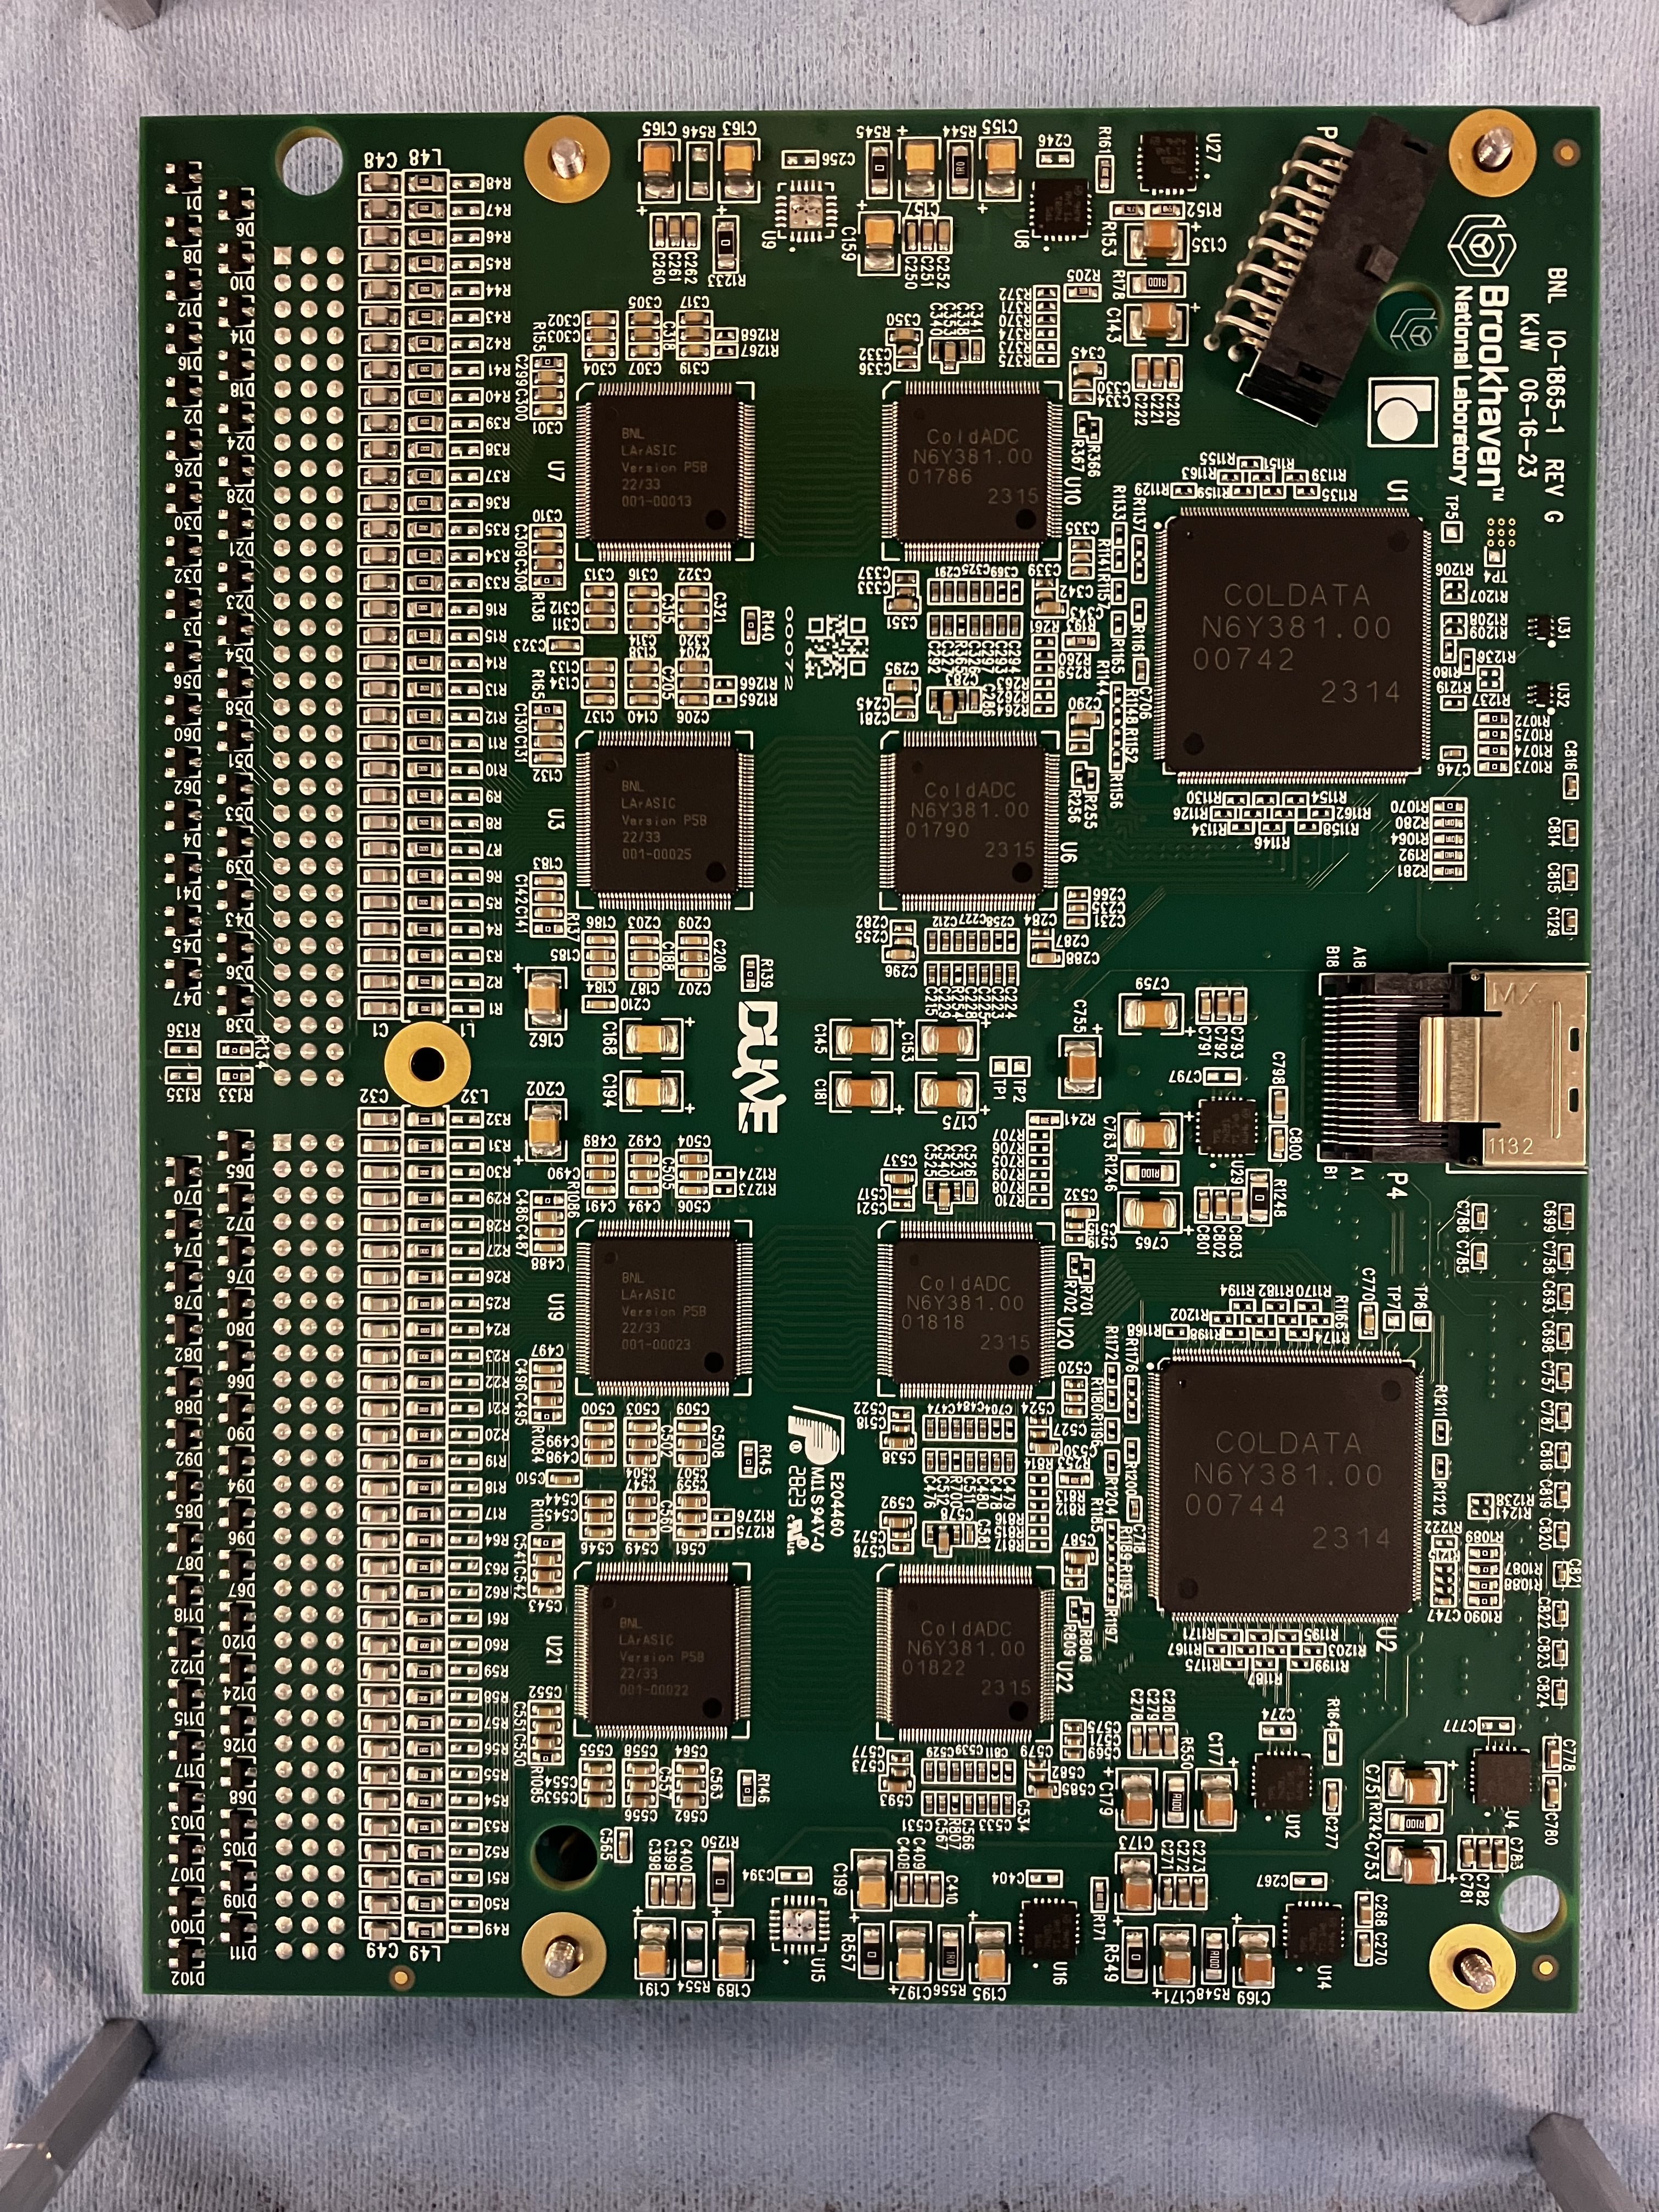chip: (1168, 514, 1422, 773), (1161, 1359, 1415, 1616), (885, 1581, 1040, 1735), (589, 394, 741, 545), (584, 1237, 735, 1388), (890, 1235, 1042, 1386), (589, 747, 739, 899), (896, 744, 1046, 895), (586, 1580, 735, 1731), (896, 394, 1046, 543)
